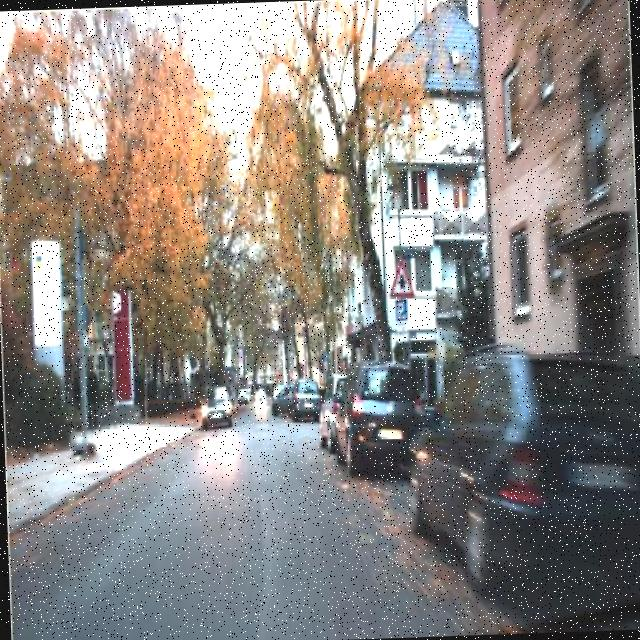Zakaz wjazdu: (227, 371, 234, 384), (289, 370, 295, 378)
